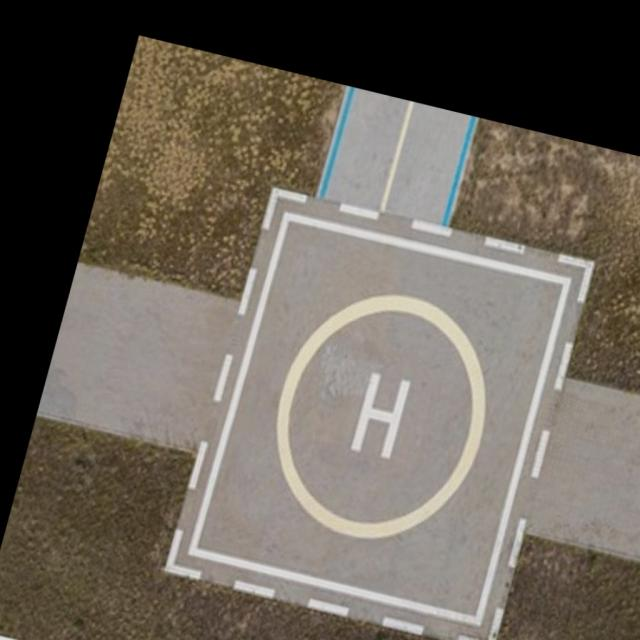helipad: (271, 290, 489, 540)
